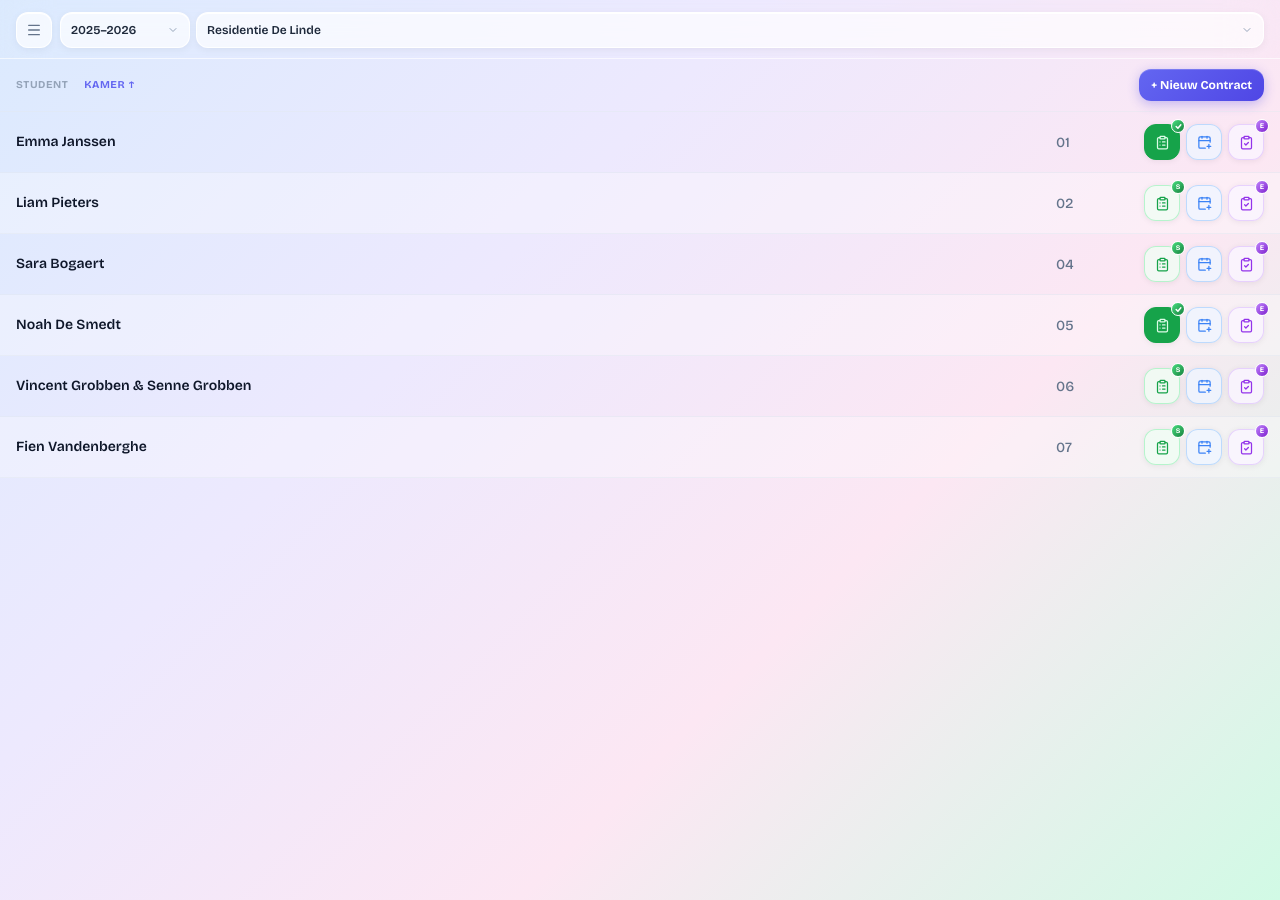
Test case: DashboardPage › toont lege staat als er geen data is voor de selectie
Step 1. Click the button "Residentie De Linde" → [264, 30], box 196,12 -> 1264,48
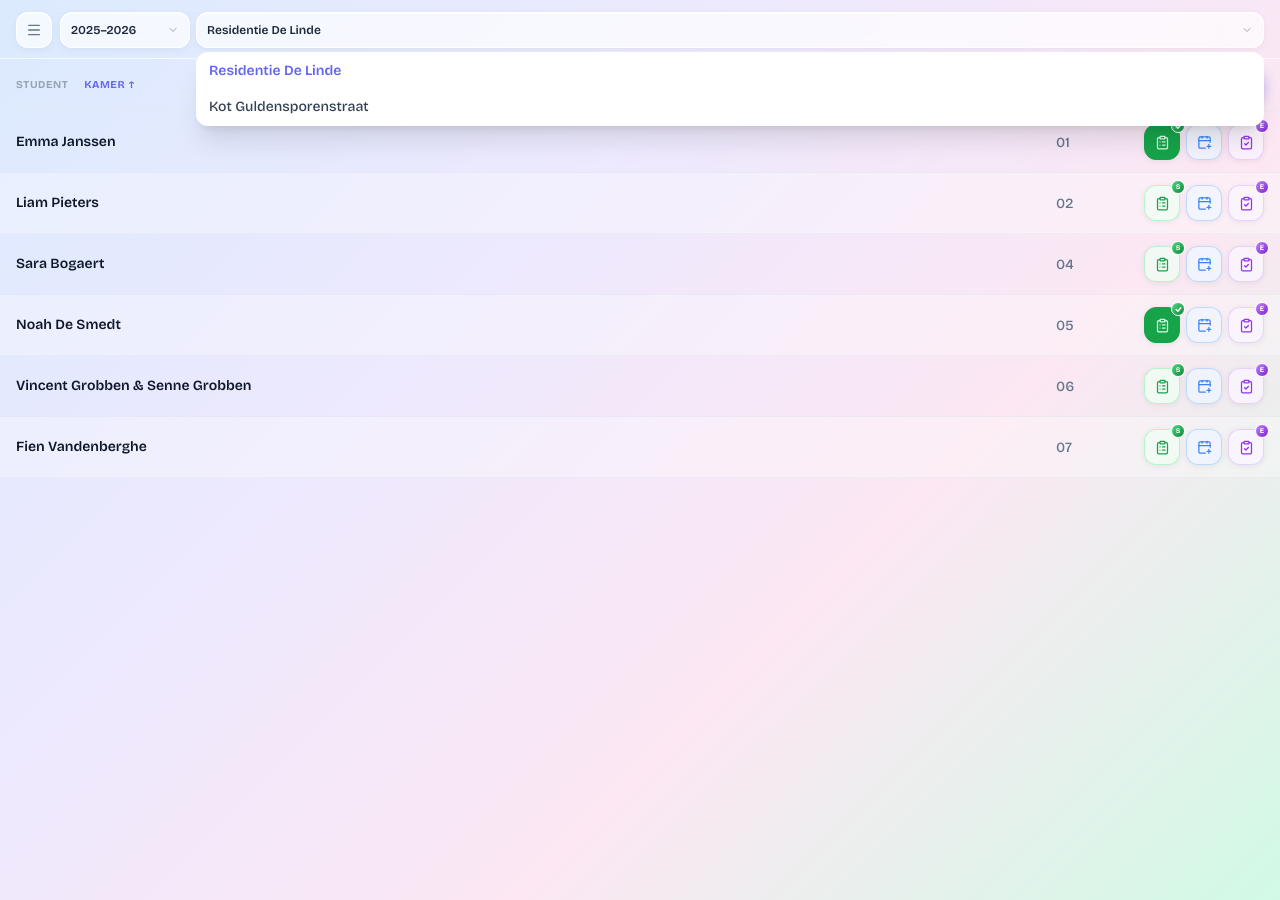
Step 2. Click the button "Kot Guldensporenstraat" → [289, 106], box 197,89 -> 1263,125
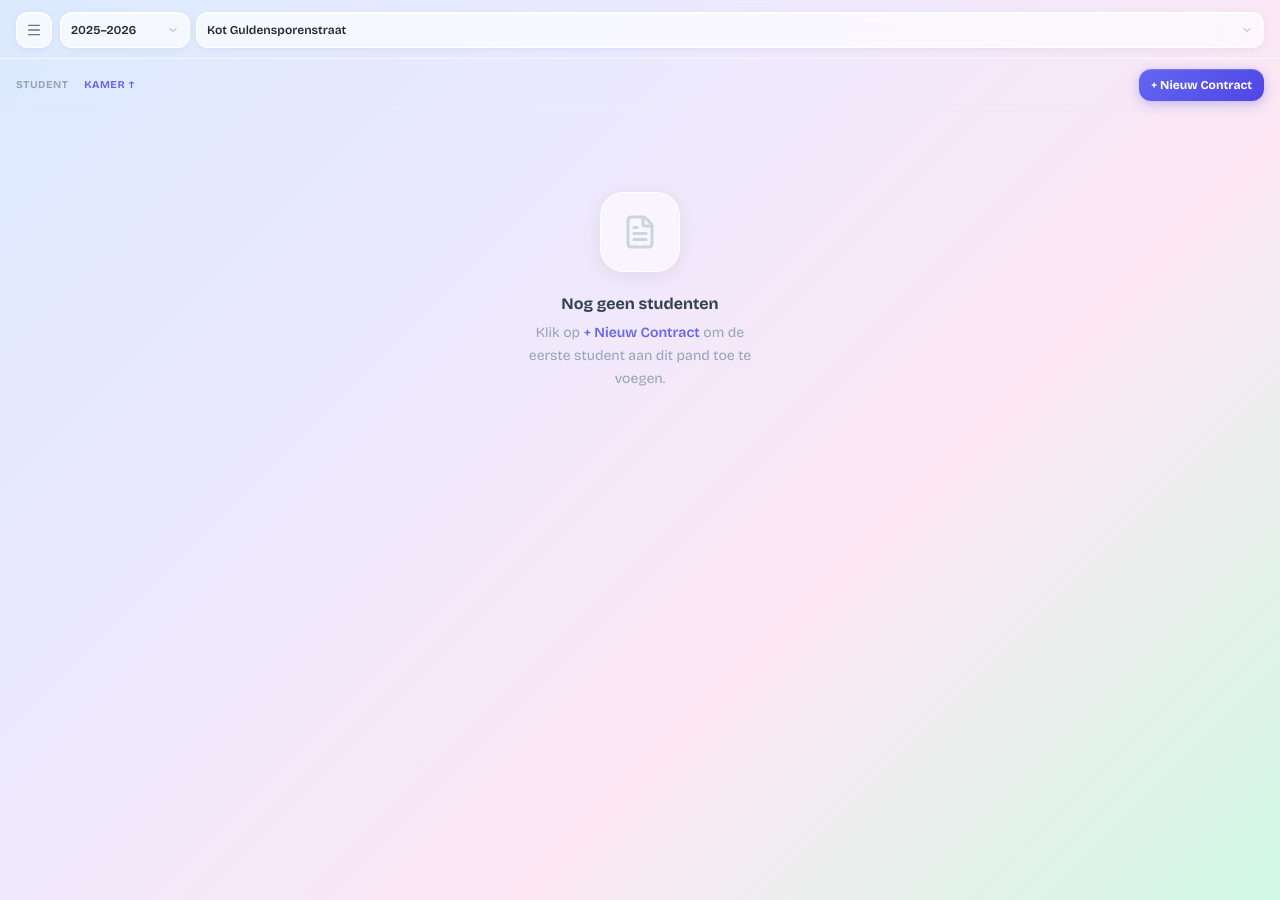
expect the heading "Nog geen studenten" is shown: met, box 561,292 -> 719,316
